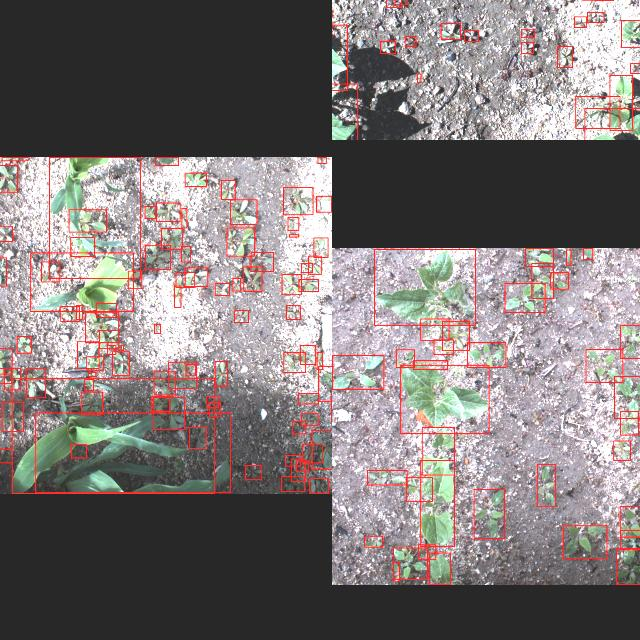crop: (12, 378, 215, 492), (36, 412, 230, 492), (50, 156, 140, 278), (374, 248, 476, 324), (401, 364, 489, 434), (30, 252, 134, 310), (420, 460, 454, 546), (584, 108, 640, 140), (422, 426, 454, 474), (610, 74, 632, 130), (430, 552, 450, 584), (77, 340, 99, 368), (621, 19, 640, 46), (156, 156, 178, 164)
weed: (332, 354, 383, 388), (474, 489, 504, 539), (576, 96, 620, 128), (563, 526, 607, 558), (586, 348, 622, 382), (505, 282, 545, 312), (614, 376, 640, 418), (393, 548, 427, 578), (153, 397, 184, 429), (85, 312, 118, 342), (468, 342, 507, 366), (616, 548, 640, 584), (283, 186, 313, 214), (442, 320, 470, 350), (536, 464, 556, 506), (68, 209, 105, 231), (532, 262, 554, 298), (227, 227, 255, 255), (312, 429, 332, 468), (168, 362, 196, 388), (620, 324, 640, 358), (231, 198, 257, 224), (2, 401, 24, 431), (619, 505, 640, 536), (146, 244, 170, 270), (406, 477, 432, 501), (421, 318, 449, 339), (27, 368, 46, 398), (367, 470, 407, 484), (525, 247, 553, 265), (318, 365, 332, 400), (0, 164, 18, 191), (154, 372, 176, 394), (250, 251, 274, 271), (81, 392, 102, 414), (185, 266, 208, 286), (71, 237, 95, 256), (284, 352, 306, 372), (112, 351, 130, 375), (244, 266, 262, 290), (156, 202, 180, 220), (620, 411, 638, 435), (282, 274, 302, 294), (162, 228, 182, 248), (620, 530, 640, 550), (41, 261, 60, 281), (302, 443, 322, 462), (190, 427, 207, 448), (282, 476, 304, 492), (100, 329, 118, 348), (215, 360, 228, 386), (4, 368, 20, 389), (396, 349, 414, 367), (412, 359, 448, 368), (441, 23, 461, 39), (96, 302, 116, 318), (300, 344, 316, 364), (434, 338, 454, 354), (614, 440, 630, 460), (291, 459, 305, 481), (0, 348, 12, 373), (186, 172, 207, 186), (310, 478, 328, 494), (550, 272, 568, 288), (418, 544, 436, 560), (558, 46, 572, 66), (60, 306, 80, 320), (314, 237, 328, 257), (221, 179, 235, 199), (316, 195, 332, 211), (86, 356, 104, 370), (128, 270, 142, 288), (152, 396, 170, 410), (308, 255, 322, 273), (176, 272, 194, 286), (298, 279, 318, 291), (380, 40, 396, 54), (17, 336, 31, 352), (302, 412, 318, 426), (71, 444, 87, 458), (245, 465, 261, 479), (298, 392, 318, 403), (0, 225, 13, 241), (286, 305, 300, 319), (214, 283, 230, 295), (292, 421, 306, 434), (364, 536, 382, 546), (0, 257, 6, 285), (208, 402, 220, 416), (286, 454, 300, 466), (235, 310, 249, 322), (0, 367, 11, 382), (588, 12, 604, 22), (181, 245, 191, 261), (174, 286, 182, 306), (0, 449, 11, 463), (144, 206, 156, 218), (465, 30, 479, 40), (574, 16, 586, 27), (206, 397, 218, 408), (297, 461, 309, 472), (288, 217, 298, 230), (404, 36, 416, 46), (521, 42, 533, 52), (522, 28, 534, 38), (186, 364, 196, 376), (393, 562, 399, 580), (2, 156, 28, 160), (630, 63, 640, 73), (302, 262, 312, 272), (583, 248, 593, 258), (233, 278, 241, 290), (386, 0, 401, 6), (106, 344, 115, 354), (85, 380, 94, 390), (76, 305, 82, 319), (566, 250, 572, 264), (182, 207, 186, 227), (318, 352, 322, 368), (154, 323, 160, 332), (394, 0, 407, 4), (318, 156, 326, 162), (417, 74, 421, 82), (88, 372, 96, 376), (290, 234, 298, 236), (122, 344, 124, 350)
